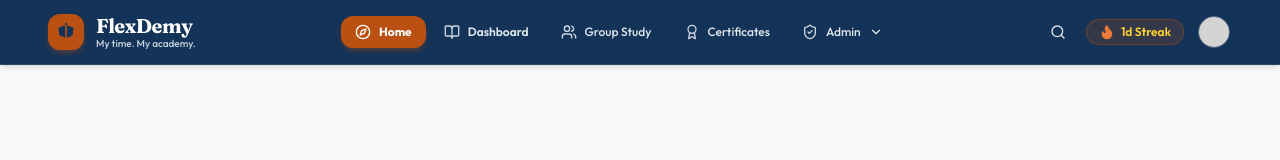
Scenario: Navbar › filters the Admin dropdown to the caller's available sub-tabs, e.g. Support only sees Tutor Approvals
Click the button "Admin": (842, 32) [788,16,897,48]
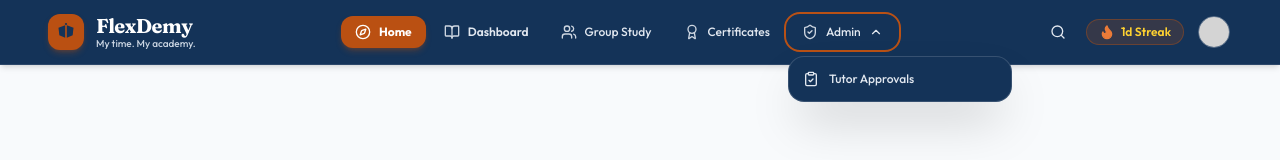
expect the option "Tutor Approvals" is shown: met, box [789,63,1011,95]
